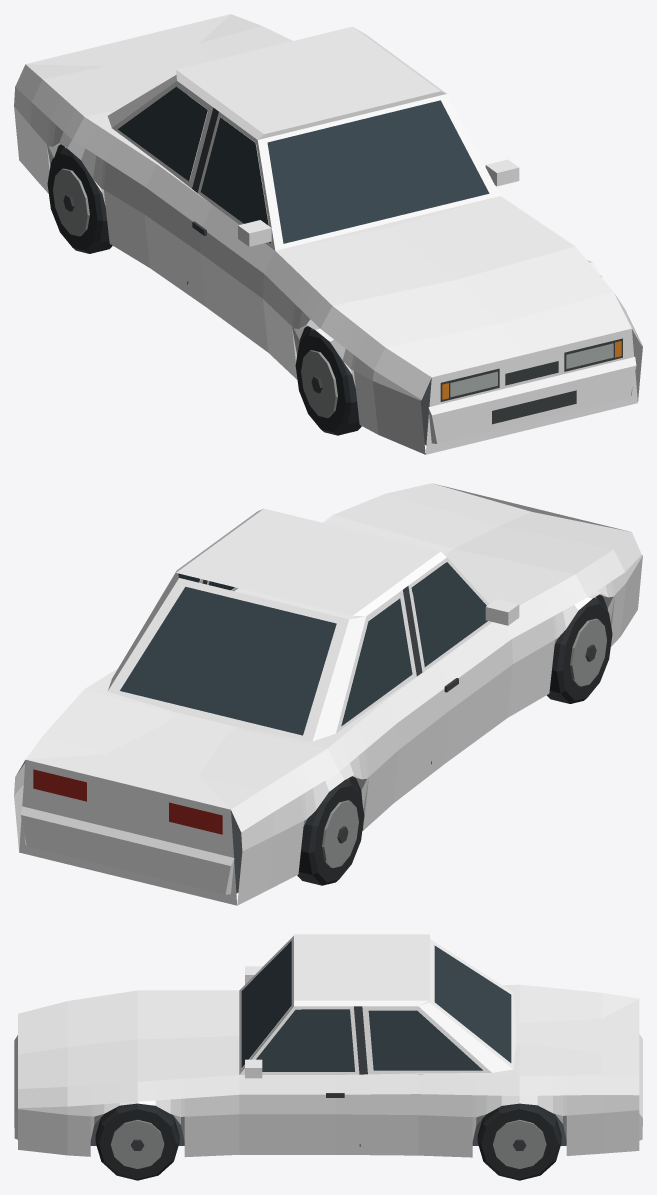
The model's file is kanaya_ryusei_ii.glb.
3 renders of one model, top to bottom at view 1: azimuth 30°, elevation 25°; view 2: azimuth 150°, elevation 25°; view 3: azimuth 270°, elevation 25°, orthographic. The views are drawn at different scales.
Parts seen in each view (by area): view 1: kanaya_ryusei_ii; view 2: kanaya_ryusei_ii; view 3: kanaya_ryusei_ii.
Boxes of the visible parts, bbox=[...] form: kanaya_ryusei_ii: bbox=[14, 14, 642, 454]; kanaya_ryusei_ii: bbox=[14, 483, 642, 905]; kanaya_ryusei_ii: bbox=[14, 934, 642, 1180].
Bounding box in the file's own units: 1.73 × 1.27 × 4.41.
8 materials, 1 textured.
